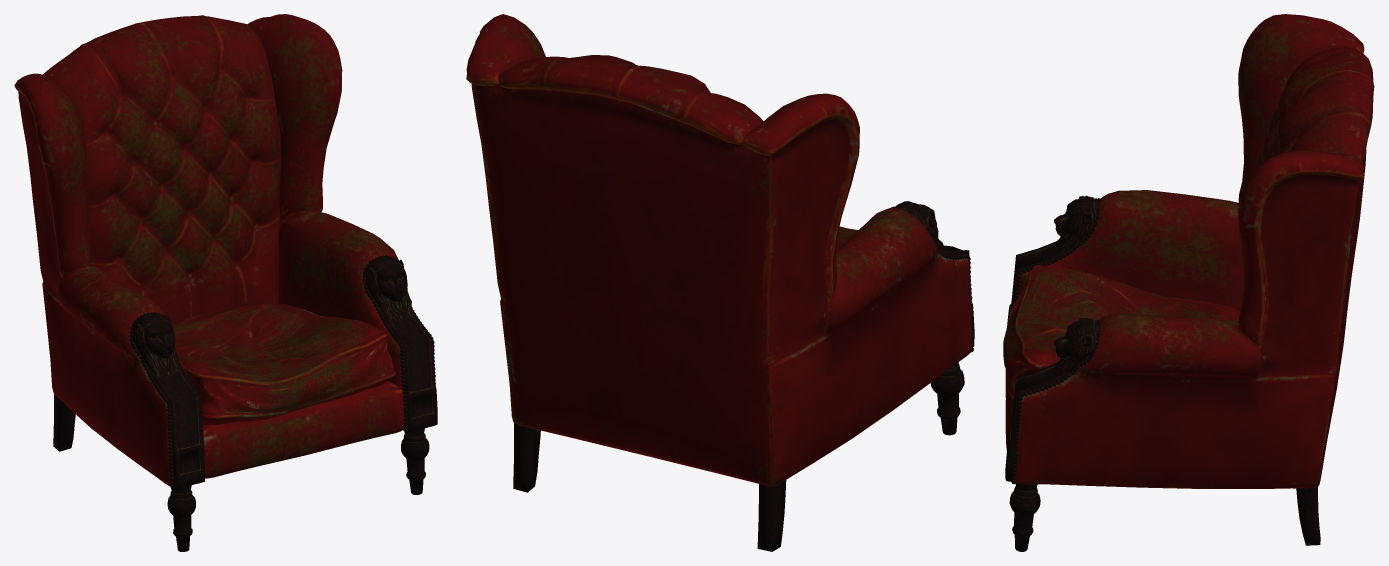
File: matrix-chair.glb
3 renders of one model, left to right at view 1: azimuth 30°, elevation 25°; view 2: azimuth 150°, elevation 25°; view 3: azimuth 270°, elevation 25°, orthographic. The views are drawn at different scales.
Parts seen in each view (by area): view 1: defaultMaterial_001.001, defaultMaterial_002.001, defaultMaterial_005.001, defaultMaterial.001, defaultMaterial_003.001, defaultMaterial_006.001, defaultMaterial_004.001; view 2: defaultMaterial_001.001, defaultMaterial_004.001, defaultMaterial_003.001, defaultMaterial.001; view 3: defaultMaterial_001.001, defaultMaterial_002.001, defaultMaterial.001, defaultMaterial_005.001, defaultMaterial_003.001, defaultMaterial_006.001, defaultMaterial_004.001.
Boxes of the visible parts, <box> form: defaultMaterial_001.001: <box>14,14,404,486</box>; defaultMaterial_002.001: <box>171,301,395,424</box>; defaultMaterial_005.001: <box>147,307,437,488</box>; defaultMaterial.001: <box>132,256,412,379</box>; defaultMaterial_003.001: <box>167,428,429,551</box>; defaultMaterial_006.001: <box>129,255,435,488</box>; defaultMaterial_004.001: <box>53,394,75,451</box>; defaultMaterial_001.001: <box>466,14,972,486</box>; defaultMaterial_004.001: <box>513,422,786,551</box>; defaultMaterial_003.001: <box>930,362,964,435</box>; defaultMaterial.001: <box>891,201,943,249</box>; defaultMaterial_001.001: <box>1005,14,1374,488</box>; defaultMaterial_002.001: <box>1003,265,1240,399</box>; defaultMaterial.001: <box>1048,195,1097,378</box>; defaultMaterial_005.001: <box>1005,241,1070,481</box>; defaultMaterial_003.001: <box>1009,483,1040,551</box>; defaultMaterial_006.001: <box>1011,198,1100,483</box>; defaultMaterial_004.001: <box>1296,487,1320,545</box>.
Size of the model in its own units: 1.64 by 2 by 1.62.
3 materials, 3 textured.
